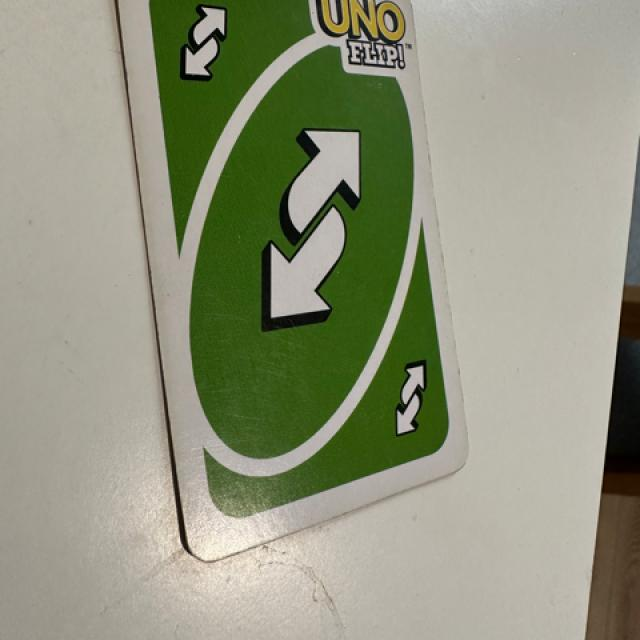lgreenrevers-20: (156, 1, 264, 108)
